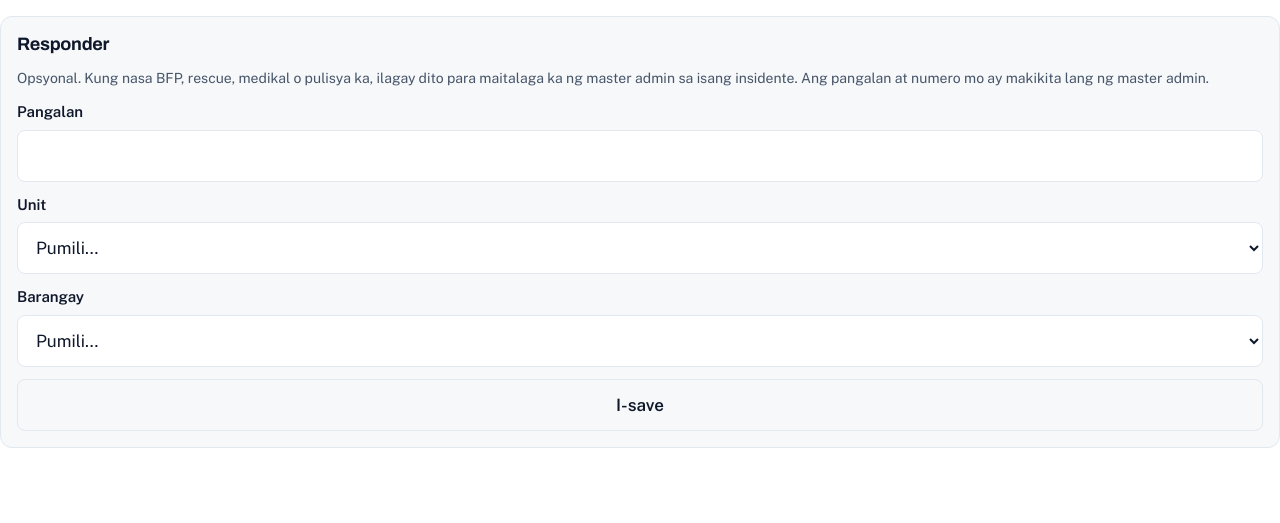
ResponderField › refuses to save without a name
Select "BFP" in the dropdown labelled "Unit" at (640, 248), box [17,222,1263,274]
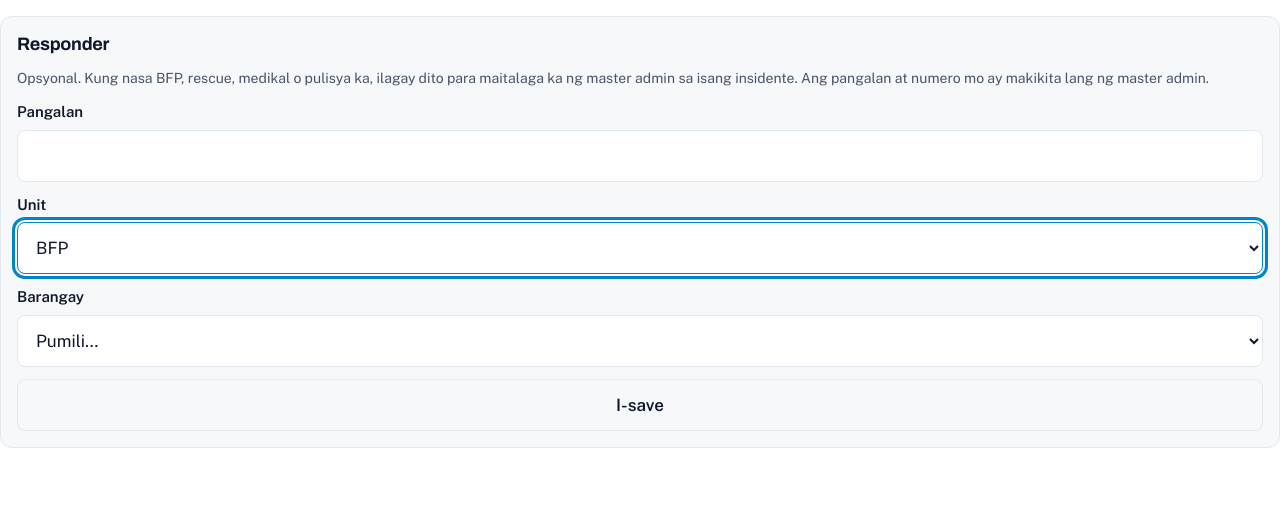
Click the button "I-save".
click(640, 405)  # box [17,379,1263,431]
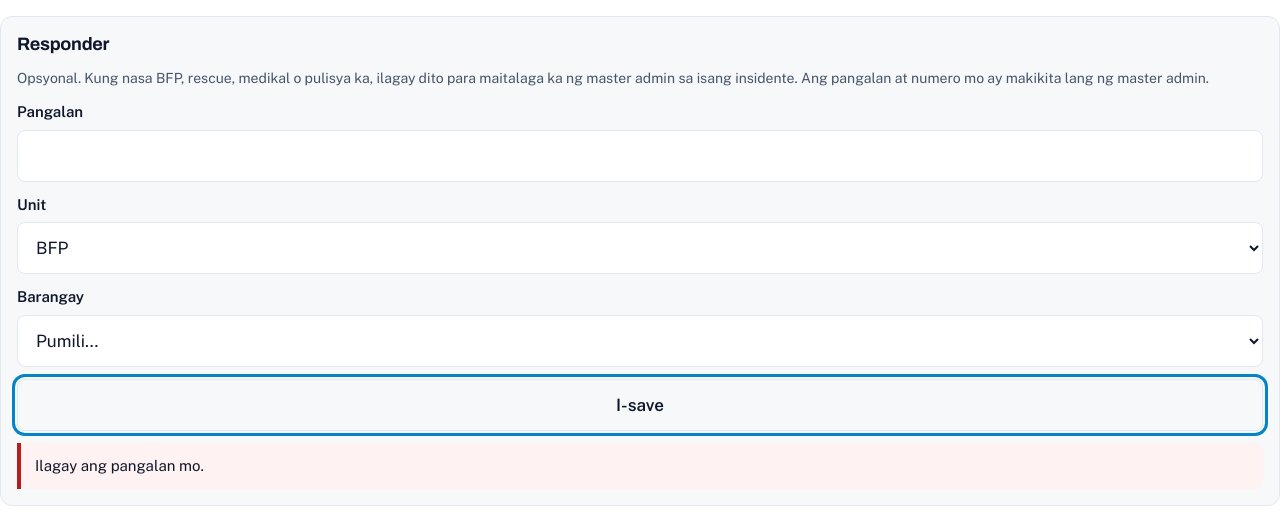
Result: the message reads "Ilagay ang pangalan mo." at [35,457,204,474]
